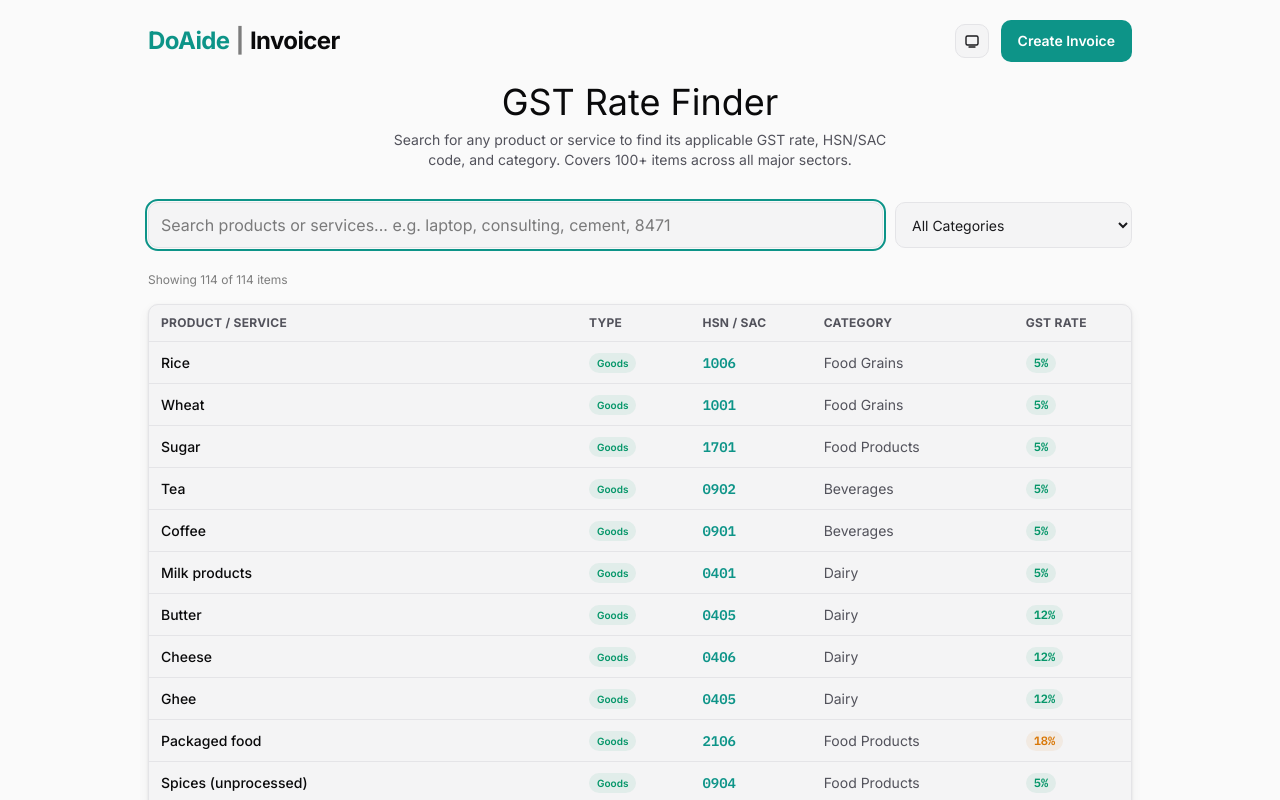
Scenario: GstRateFinderPage › filters results by category
Step 1. Select "Electronics" in the dropdown showing "All Categories" → {"x": 1014, "y": 225}, box [895,202,1132,248]
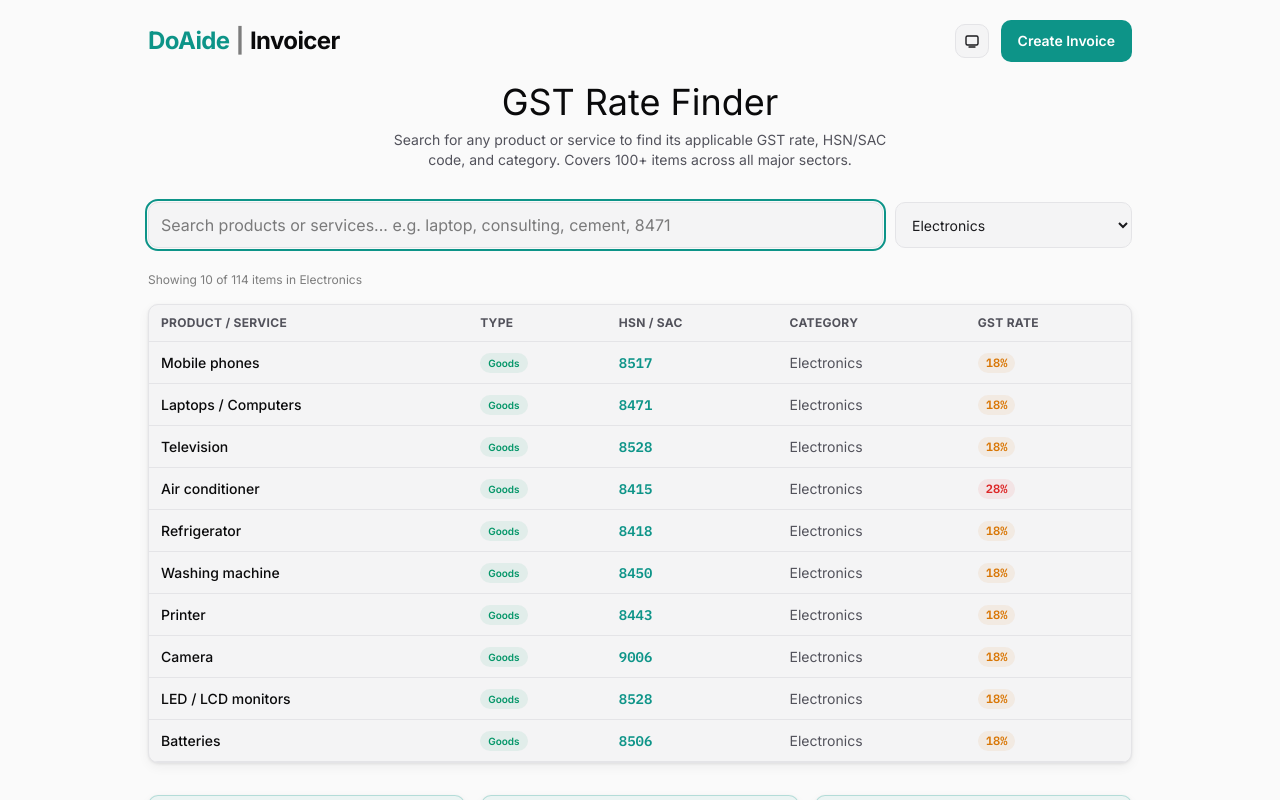
Check: the text "Mobile phones" is shown, box [149,342,468,384]
